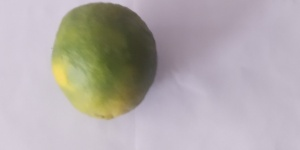BAD: (49, 1, 158, 122)
